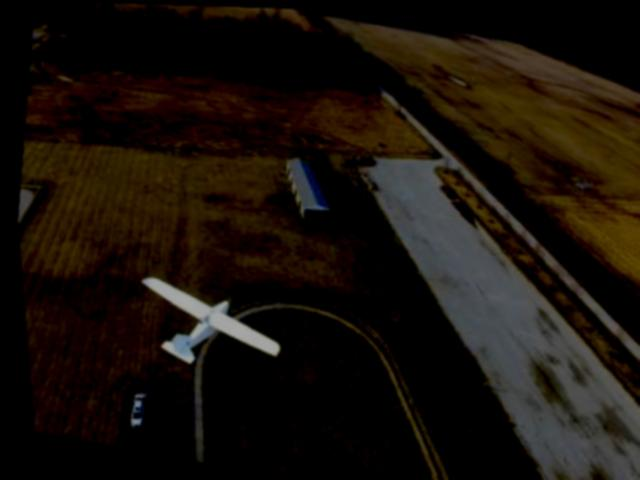uav: (112, 260, 295, 394)
